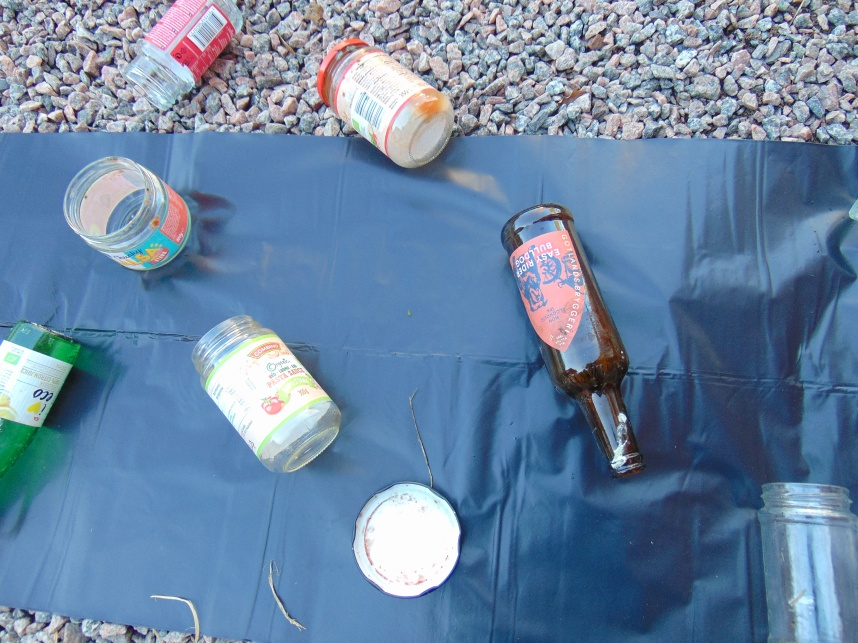glass_bottle: (502, 205, 647, 479), (192, 314, 341, 474), (317, 39, 452, 168), (759, 480, 858, 643), (63, 155, 193, 276), (1, 320, 79, 504), (125, 1, 244, 111)
metal: (352, 479, 467, 600)
